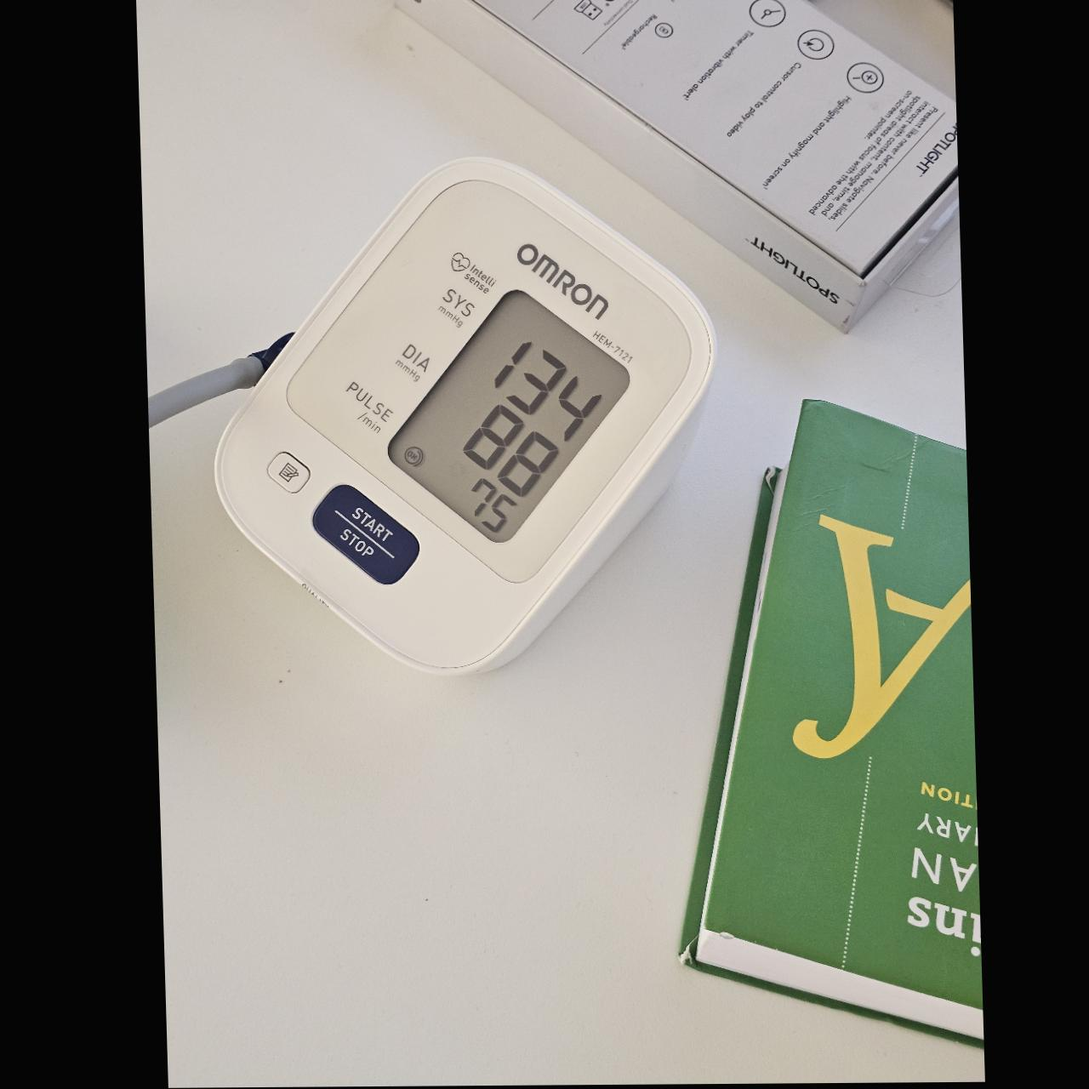lcd display: (381, 287, 636, 545)
